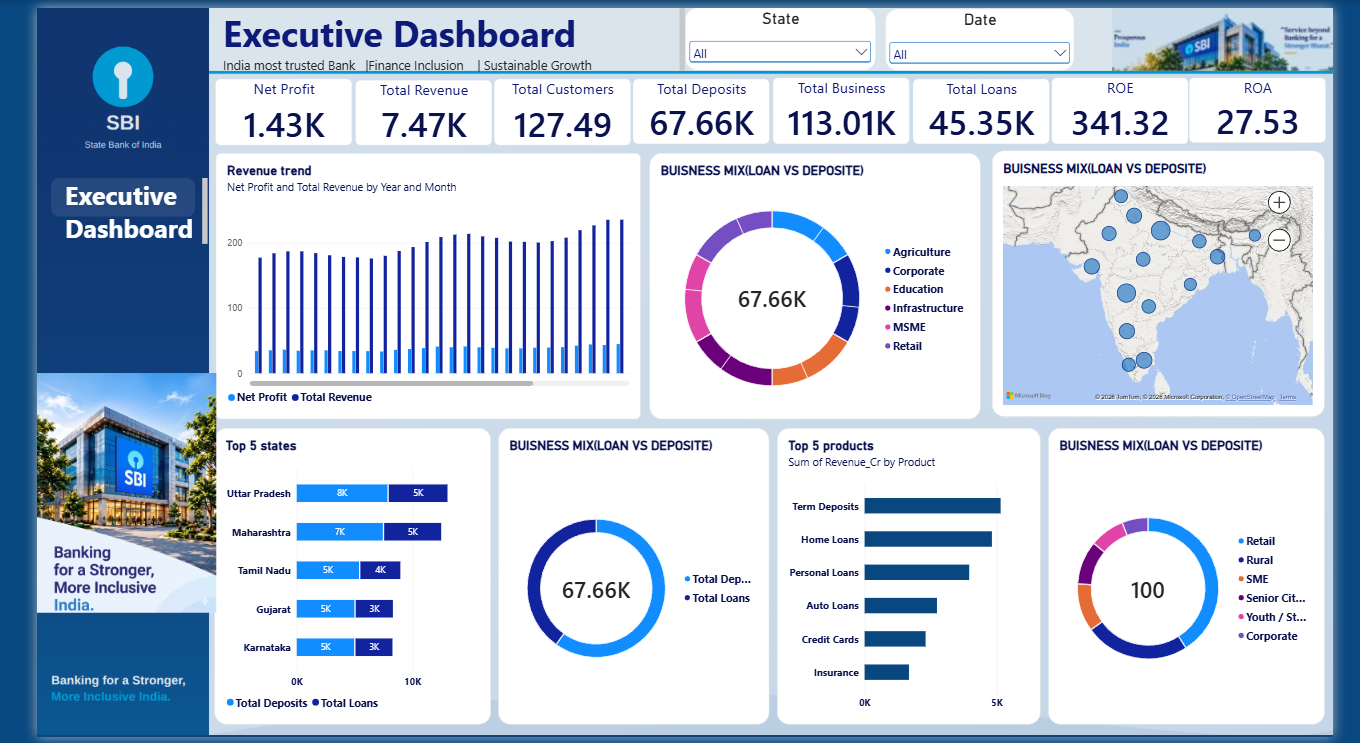

Layout of this report page (visuals, bound fields, positions):
{"tool":"powerbi","page":{"name":"Page 1","canvas":[1920,1080],"ordinal":0},"visuals":[{"type":"slicer","title":"Date","fields":{"Values":["DateTable.Date"]},"box":[1256.9,2,280.4,94.6],"z":0},{"type":"cardVisual","fields":{"Data":["Fact_Monthly_State.Total Business"]},"box":[1079.3,92.9,223.2,119.6],"z":0},{"type":"slicer","title":"State","fields":{"Values":["State.State"]},"box":[960.8,0,280.4,94.6],"z":1000},{"type":"cardVisual","fields":{"Data":["Fact_Monthly_State.Total Loans"]},"box":[1286.4,94.6,223.2,117.9],"z":1000},{"type":"textbox","box":[276.8,0,683.9,94.6],"z":2000},{"type":"cardVisual","fields":{"Data":["Fact_Monthly_State.ROA"]},"box":[1697.1,92.9,223.2,117.9],"z":2000},{"type":"cardVisual","fields":{"Data":["Fact_Monthly_State.Net Profit"]},"box":[253.6,95.3,223.2,119.6],"z":2001},{"type":"cardVisual","fields":{"Data":["Fact_Monthly_State.Total Revenue"]},"box":[460.7,97.1,223.2,117.9],"z":2003},{"type":"cardVisual","fields":{"Data":["Fact_Monthly_State.Total Deposits"]},"box":[871.4,95.3,223.2,117.9],"z":2004},{"type":"cardVisual","fields":{"Data":["Fact_Monthly_State.Total Customers"]},"box":[666.1,95.3,223.2,119.6],"z":2005},{"type":"cardVisual","fields":{"Data":["Fact_Monthly_State.ROE"]},"box":[1491.8,92.9,223.2,119.6],"z":3000},{"type":"donutChart","title":"BUISNESS MIX(LOAN VS DEPOSITE)","fields":{"Y":["Fact_Monthly_State.Total Deposits","Fact_Monthly_State.Total Loans"]},"box":[683.3,622.2,401.9,438.9],"z":3001},{"type":"donutChart","title":"BUISNESS MIX(LOAN VS DEPOSITE)","fields":{"Category":["Loan_Portfolio.Category"],"Y":["Fact_Monthly_State.Total Deposits","Fact_Monthly_State.Total Loans"]},"box":[907.4,214.8,490.7,394.4],"z":3002},{"type":"clusteredColumnChart","title":"Revenue trend","fields":{"Category":["DateTable.Date.Variation.Date Hierarchy.Year","DateTable.Date.Variation.Date Hierarchy.Month"],"Y":["Fact_Monthly_State.Net Profit","Fact_Monthly_State.Total Revenue"]},"box":[264.8,214.8,629.6,394.4],"z":3003},{"type":"map","title":"BUISNESS MIX(LOAN VS DEPOSITE)","fields":{"Category":["State.State"],"Size":["Fact_Monthly_State.Total Deposits"]},"box":[1414.8,211.1,492.6,394.4],"z":3004},{"type":"barChart","title":"Top 5 states","fields":{"Category":["State.State"],"Y":["Fact_Monthly_State.Total Deposits","Fact_Monthly_State.Total Loans"]},"box":[263,622.2,409.3,438.9],"z":3005},{"type":"barChart","title":"Top 5 products","fields":{"Category":["Product_Revenue.Product"],"Y":["Sum(Product_Revenue.Revenue_Cr)"]},"box":[1096.3,622.2,390.7,438.9],"z":3006},{"type":"donutChart","title":"BUISNESS MIX(LOAN VS DEPOSITE)","fields":{"Category":["Customer_Segments.Segment"],"Y":["Sum(Customer_Segments.Customers_Share_Pct)"]},"box":[1498.1,622.2,409.3,438.9],"z":3007},{"type":"textbox","box":[41.2,251,211.8,98],"z":3009},{"type":"image","box":[0,540.4,265.4,355.8],"z":3010}]}

Visuals, with their boxes in screenshot pixels (x1, y1, x2, y2), scaled from the page's 1920x1080 canvas onto the 1360x743 screenshot:
"Date" slicer: 890:1:1089:66
cardVisual - Fact_Monthly_State.Total Business: 765:64:923:146
"State" slicer: 681:0:879:65
cardVisual - Fact_Monthly_State.Total Loans: 911:65:1069:146
textbox: 196:0:680:65
cardVisual - Fact_Monthly_State.ROA: 1202:64:1359:145
cardVisual - Fact_Monthly_State.Net Profit: 180:66:338:148
cardVisual - Fact_Monthly_State.Total Revenue: 326:67:484:148
cardVisual - Fact_Monthly_State.Total Deposits: 617:66:775:147
cardVisual - Fact_Monthly_State.Total Customers: 472:66:630:148
cardVisual - Fact_Monthly_State.ROE: 1057:64:1215:146
"BUISNESS MIX(LOAN VS DEPOSITE)" donutChart: 484:428:769:730
"BUISNESS MIX(LOAN VS DEPOSITE)" donutChart: 643:148:990:419
"Revenue trend" clusteredColumnChart: 188:148:634:419
"BUISNESS MIX(LOAN VS DEPOSITE)" map: 1002:145:1351:417
"Top 5 states" barChart: 186:428:476:730
"Top 5 products" barChart: 777:428:1053:730
"BUISNESS MIX(LOAN VS DEPOSITE)" donutChart: 1061:428:1351:730
textbox: 29:173:179:240
image: 0:372:188:617
